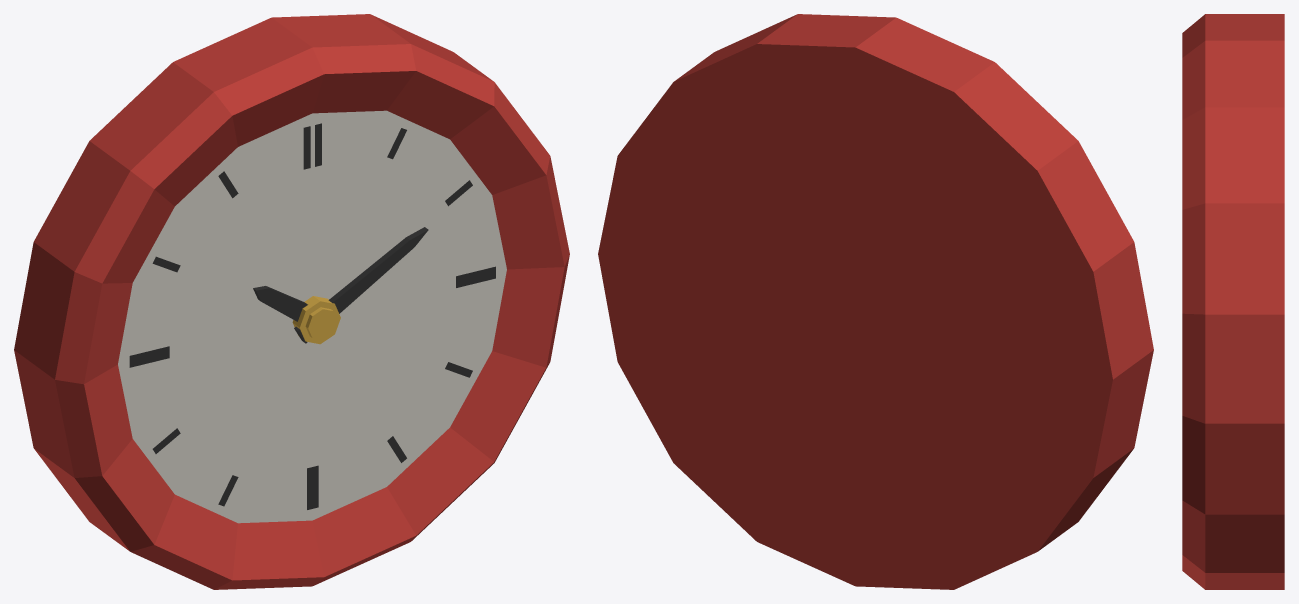
File: duvar_saati.glb
3 views of the same model, side by side, from view 1: azimuth 30°, elevation 25°; view 2: azimuth 150°, elevation 25°; view 3: azimuth 270°, elevation 25° (orthographic). The views are drawn at different scales.
Parts seen in each view (by area): view 1: duvar_saati; view 2: duvar_saati; view 3: duvar_saati.
Boxes of the visible parts, x1,y1,x2,y2 form: duvar_saati: (14,14,569,589); duvar_saati: (598,14,1153,589); duvar_saati: (1182,14,1284,589).
Bounding box in the file's own units: 0.45 × 0.45 × 0.08.
